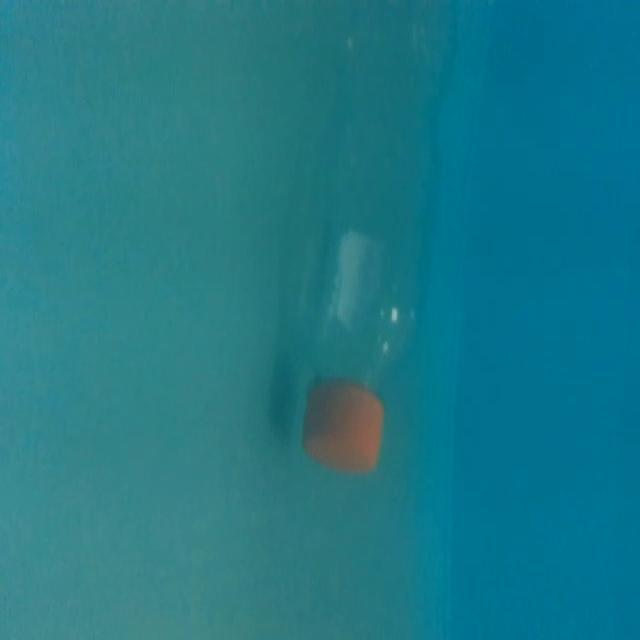plastic bottle: (296, 6, 459, 484)
